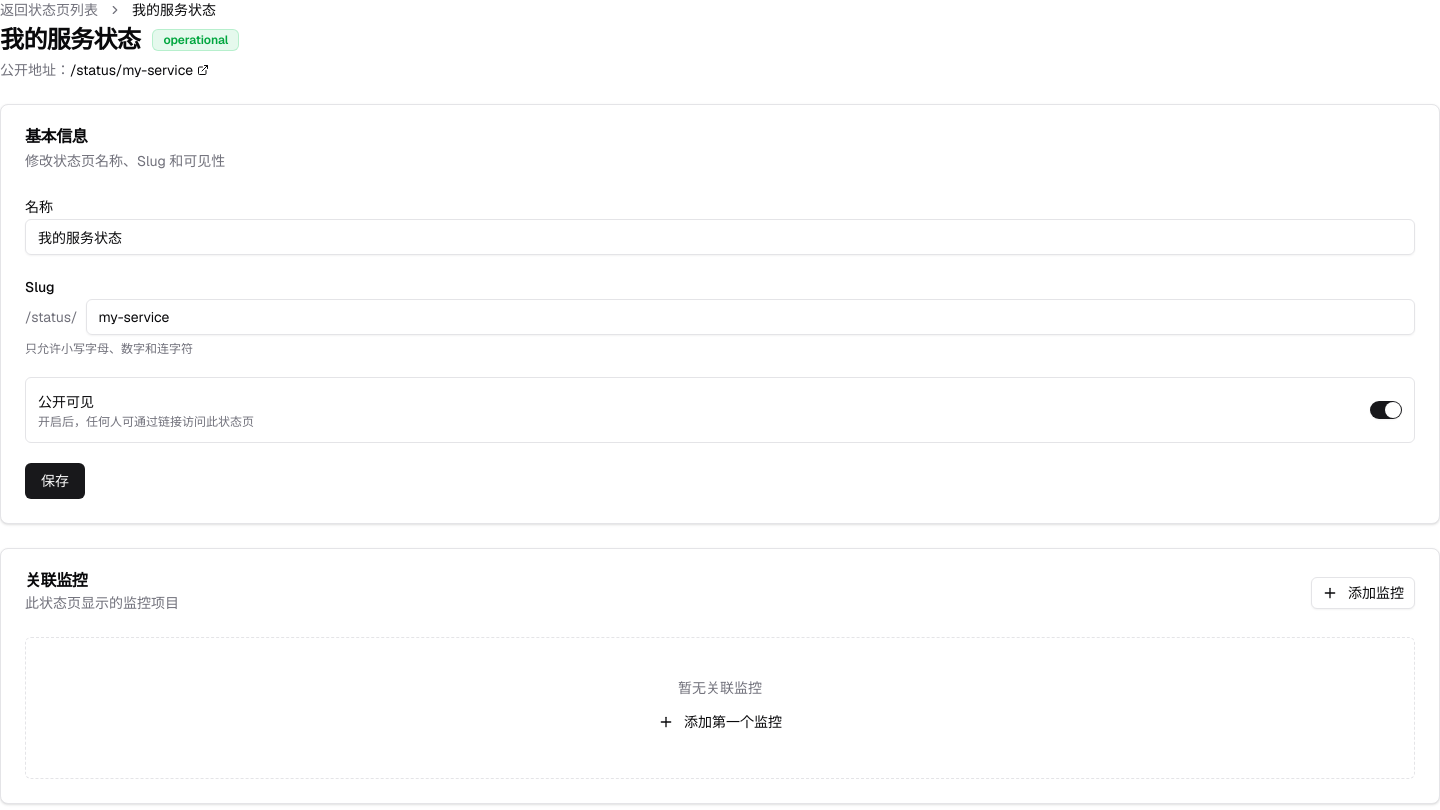
Test: StatusPageDetailPage › 点击添加监控打开 dialog
Check: the field labelled "名称" holds "我的服务状态", box [25,219,1415,255]
Click the button "添加监控" at (1363, 593), box [1311,577,1415,609]
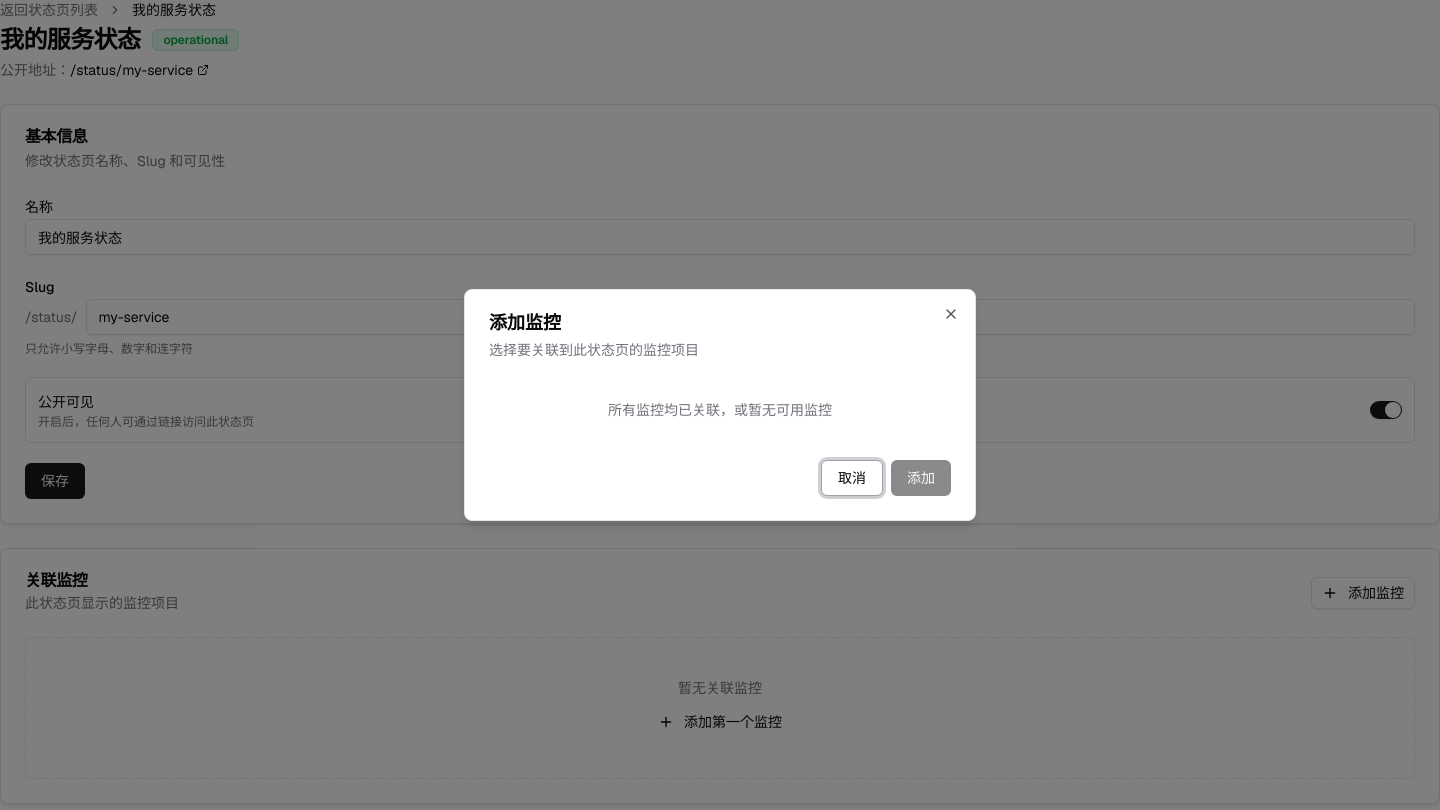
Check: the text "选择要关联到此状态页的监控项目" is shown, box [489,341,699,359]
